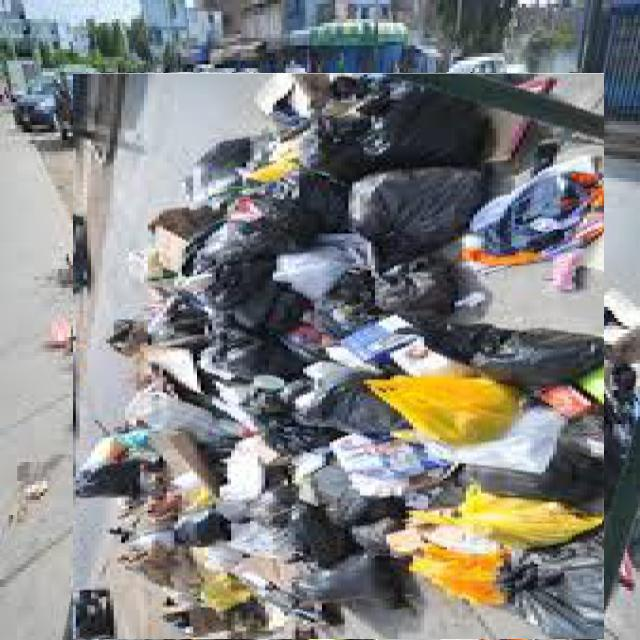Trashbag: (325, 166, 497, 272), (353, 86, 486, 175), (508, 553, 640, 637), (359, 266, 482, 335), (475, 326, 616, 383), (202, 249, 295, 335), (228, 333, 334, 401), (290, 560, 412, 613), (298, 376, 402, 432), (72, 471, 182, 522), (254, 188, 329, 238)
